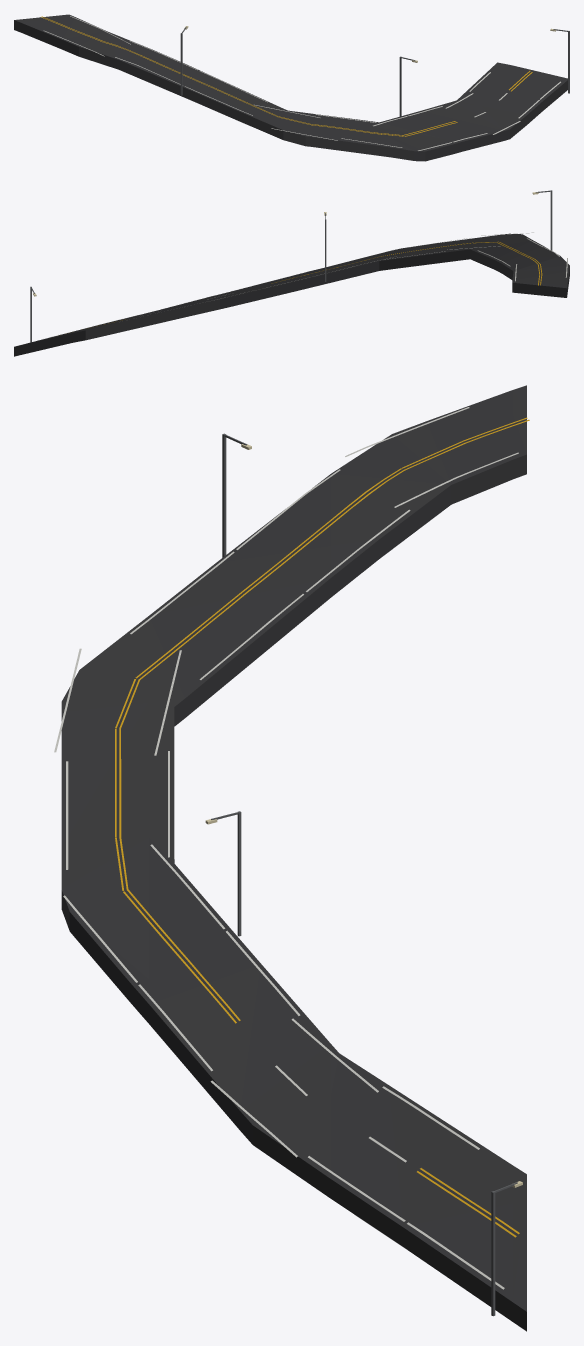
The picture shows the model from 3 angles, top to bottom: view 1: azimuth 30°, elevation 25°; view 2: azimuth 150°, elevation 25°; view 3: azimuth 270°, elevation 25°; orthographic projection. The views are drawn at different scales.
Bounding box in the file's own units: 70.21 × 27.09 × 26.16.
